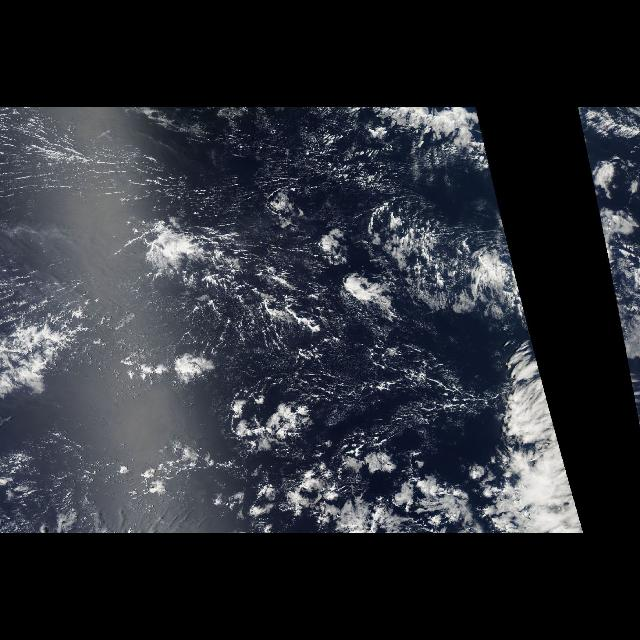Sugar: (1, 108, 356, 240), (199, 280, 491, 418)
